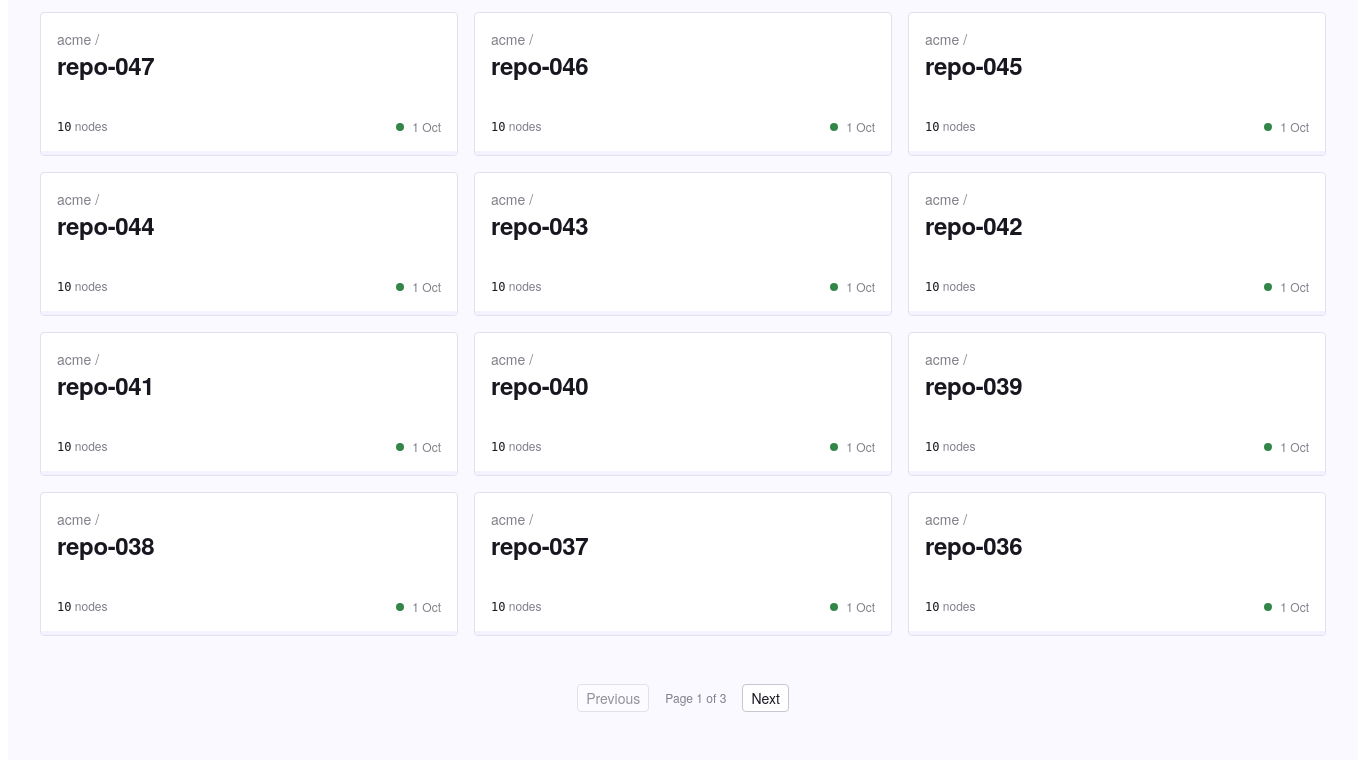
Dashboard paging › moves between pages, and the first page has no Previous
(page scrolled)
Check: the button "Previous" is disabled, box left=577, top=684, right=649, bottom=712
Click the button "Next". click: (766, 698)
box: left=742, top=684, right=789, bottom=712
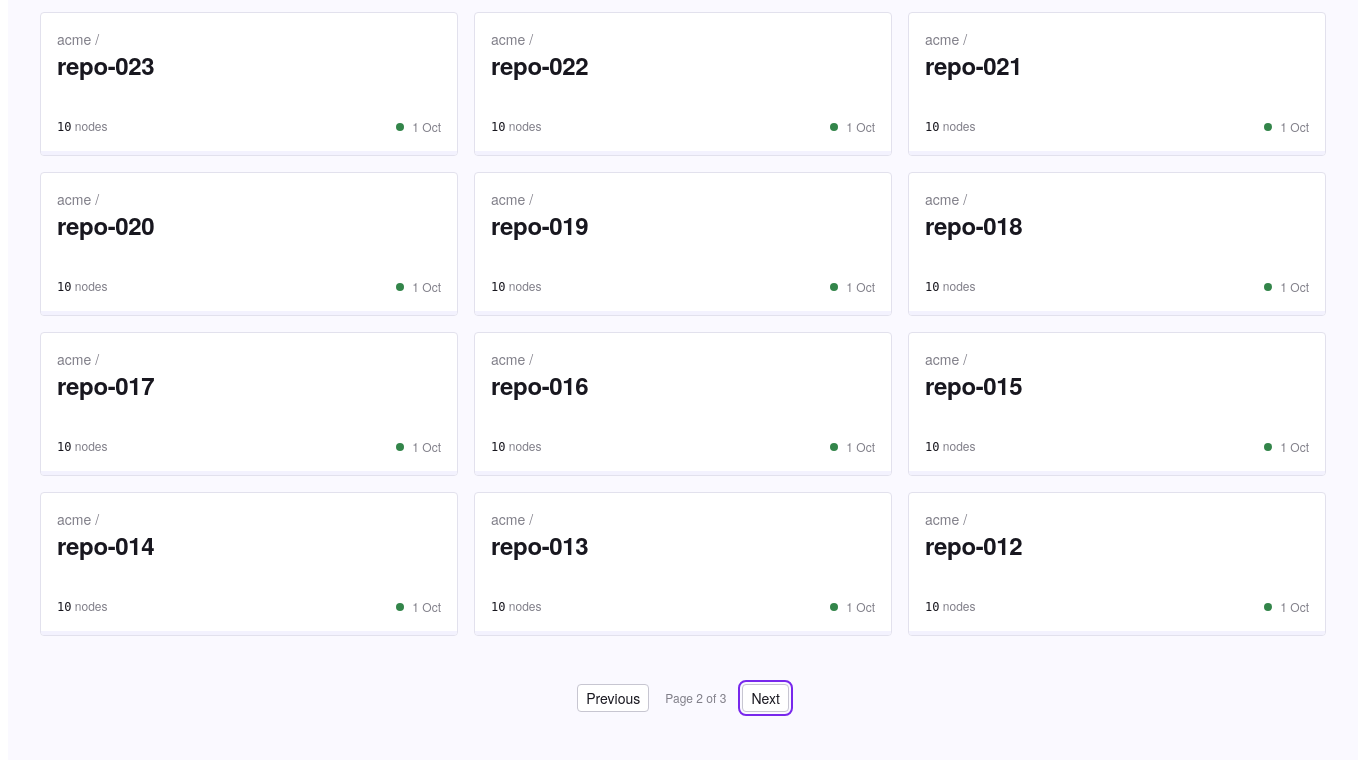
Check: the text "Page 2 of 3" is shown, box left=665, top=690, right=726, bottom=706
Click the button "Next". click: (766, 698)
box: left=742, top=684, right=789, bottom=712
(page scrolled)
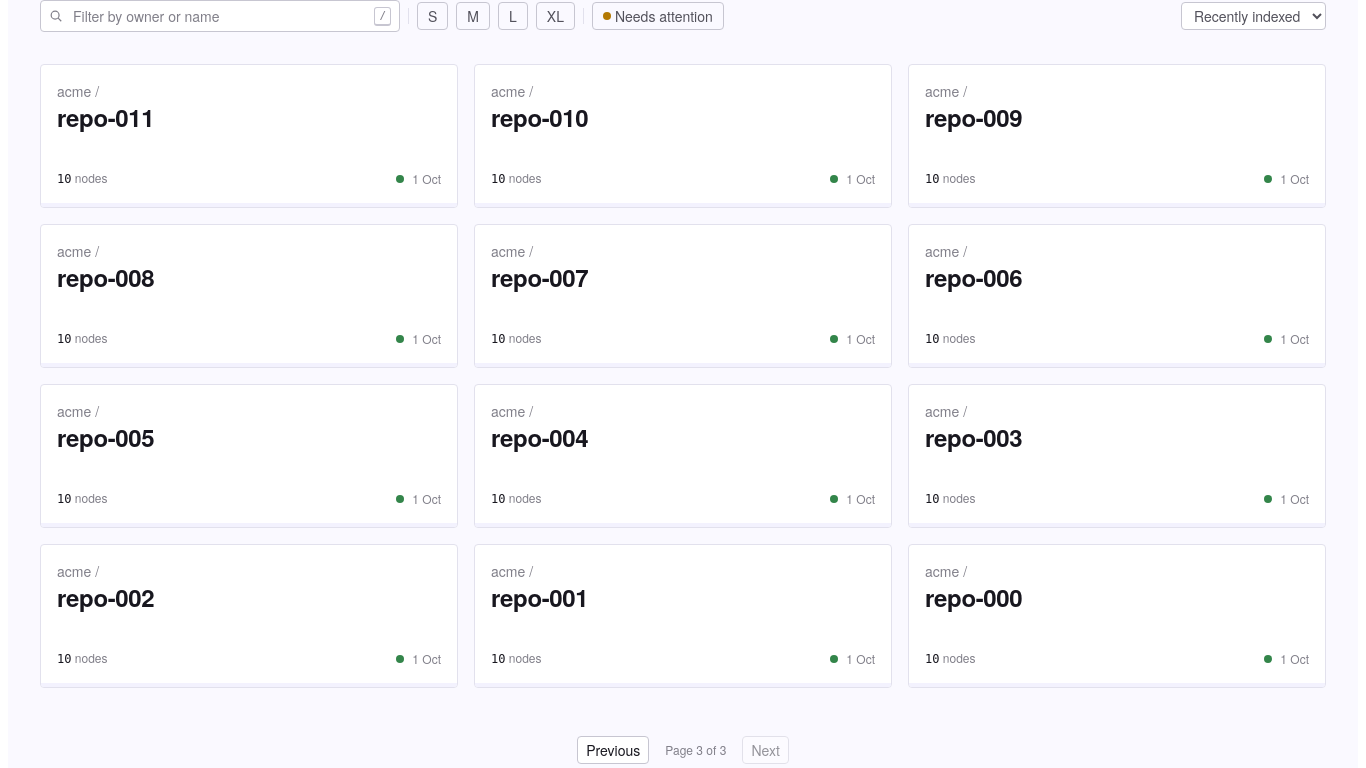
Check: the text "Page 3 of 3" is shown, box left=665, top=742, right=726, bottom=758
Check: the number of list items is 12
Check: the button "Next" is disabled, box left=742, top=736, right=789, bottom=764
